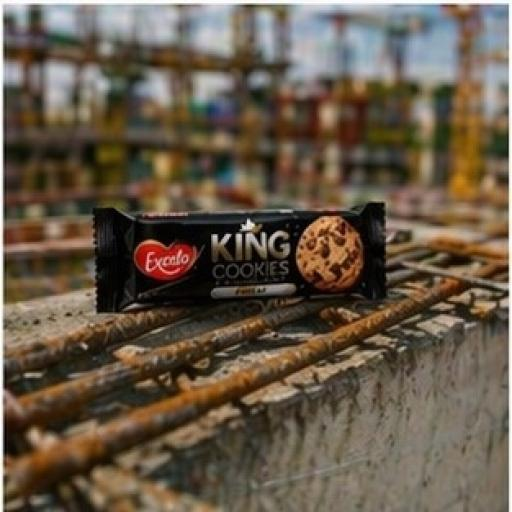king-cooking: (65, 153, 439, 392)
